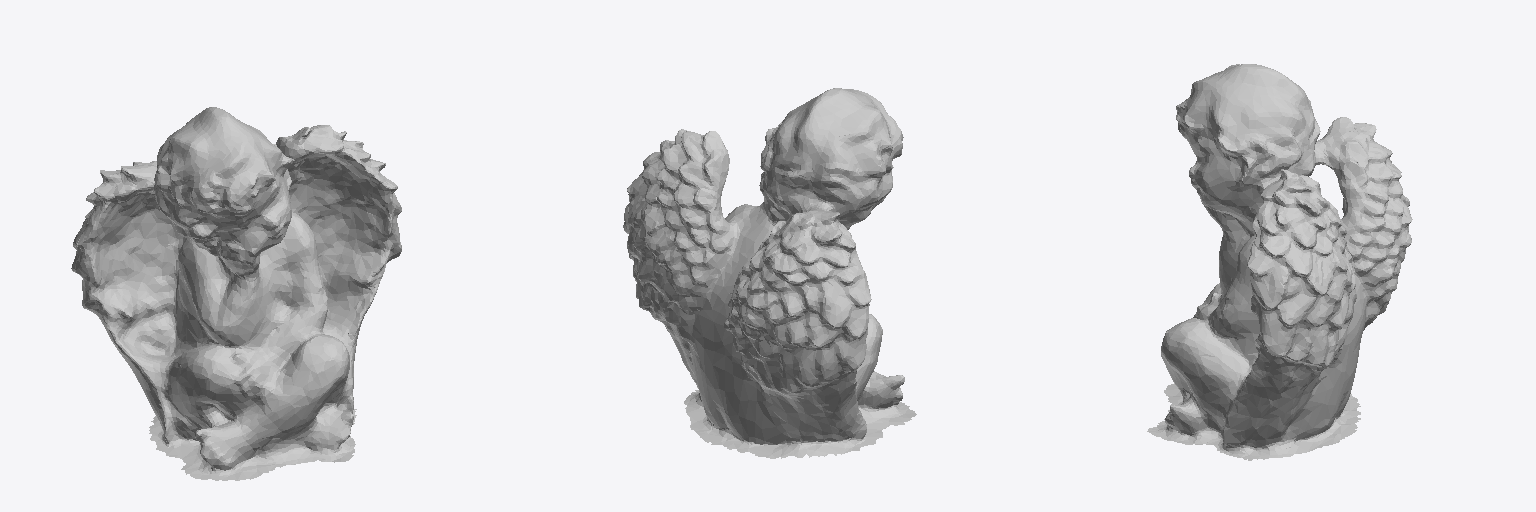
File: angelBaixRes.obj
3 views of the same model, side by side, from view 1: azimuth 30°, elevation 25°; view 2: azimuth 150°, elevation 25°; view 3: azimuth 270°, elevation 25° (orthographic).
Parts seen in each view (by area): view 1: mainMeshNode; view 2: mainMeshNode; view 3: mainMeshNode.
Part boxes in pixels (left/top/right/bottom): mainMeshNode: left=71, top=107, right=401, bottom=480; mainMeshNode: left=623, top=88, right=916, bottom=458; mainMeshNode: left=1147, top=64, right=1412, bottom=460.
Bounding box in the file's own units: 1.86 × 2.09 × 1.51.